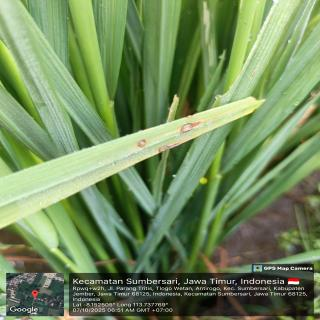Blast: (177, 122, 207, 133), (133, 138, 151, 149), (158, 144, 175, 152)
